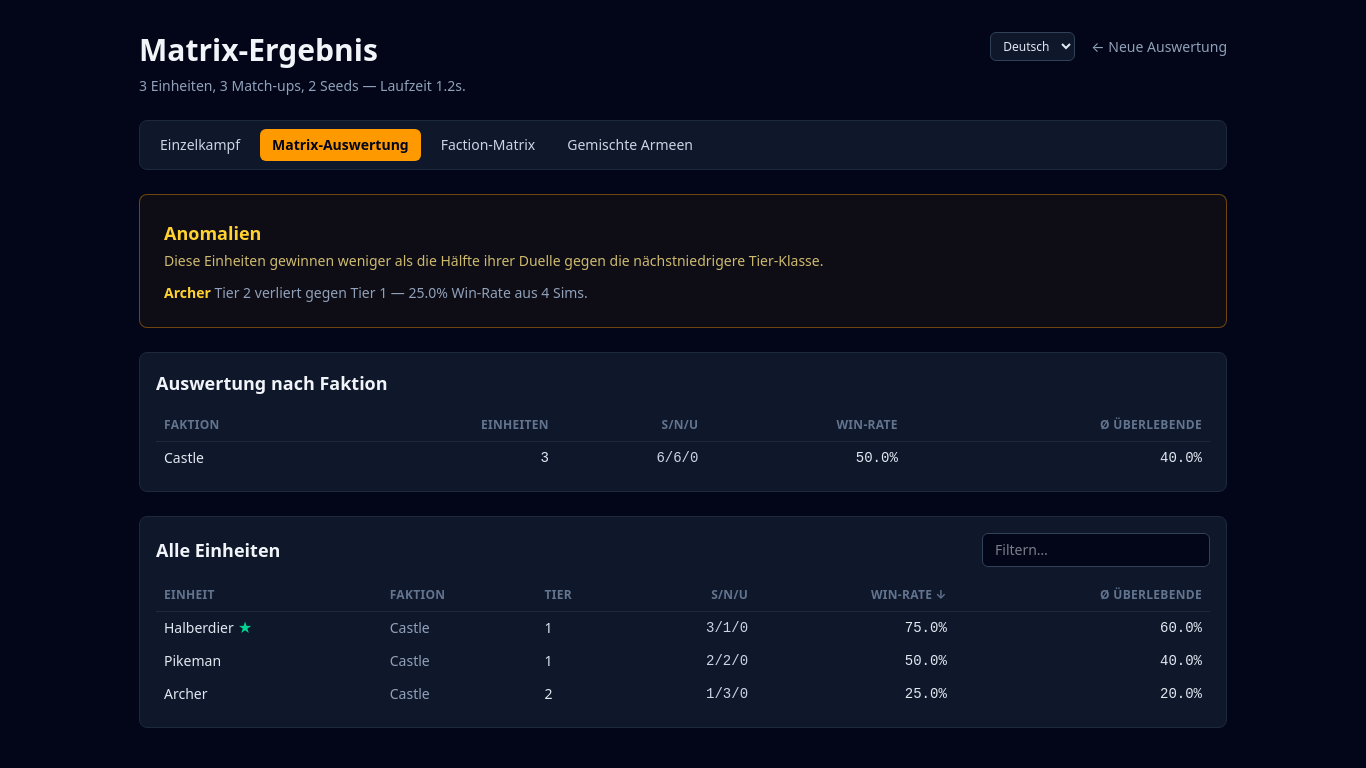
Test case: MatrixResultPage › filters rows by unit name
Type "pike" into the search field with placeholder "Filtern…".
click(1096, 550); type("pike")  # box [982, 533, 1210, 567]
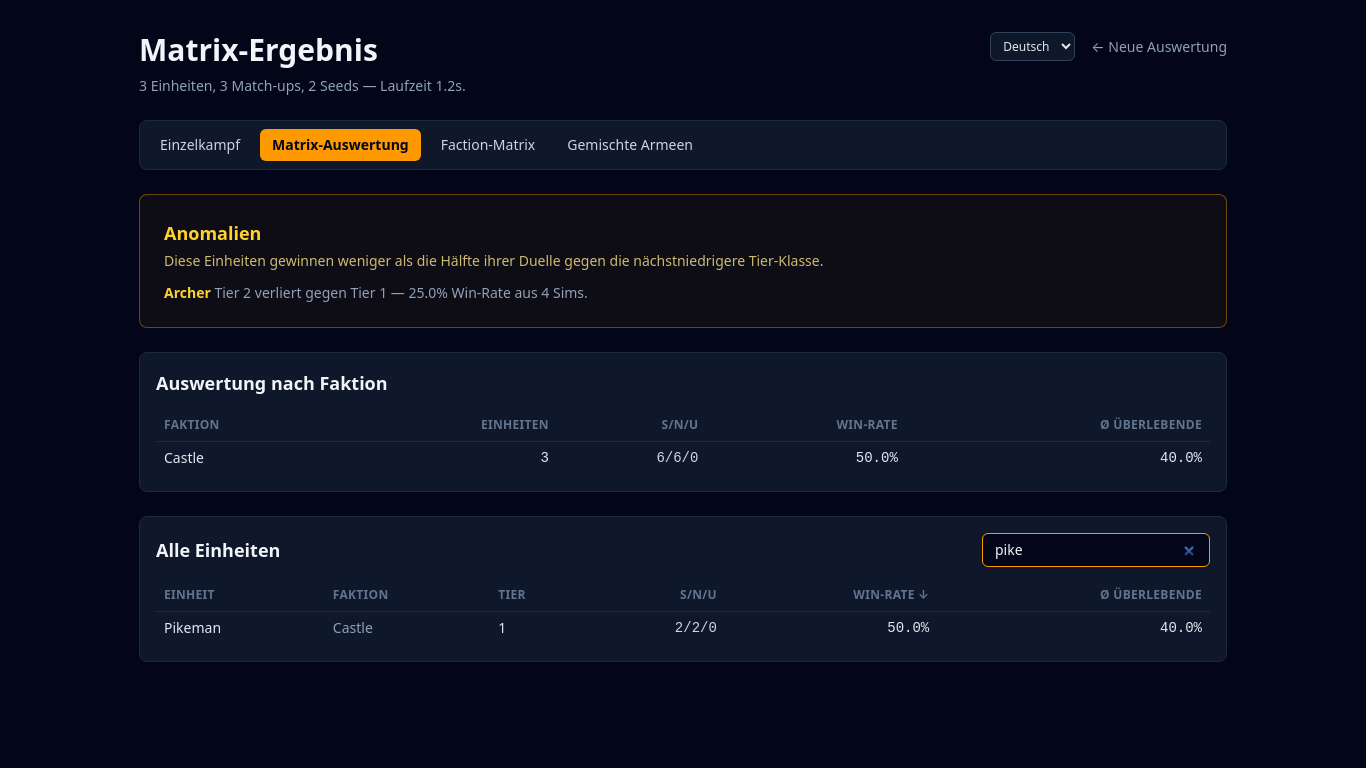
expect the text "Pikeman" is shown: met, box [156, 612, 325, 644]
expect the text "Halberdier" is gone: met
